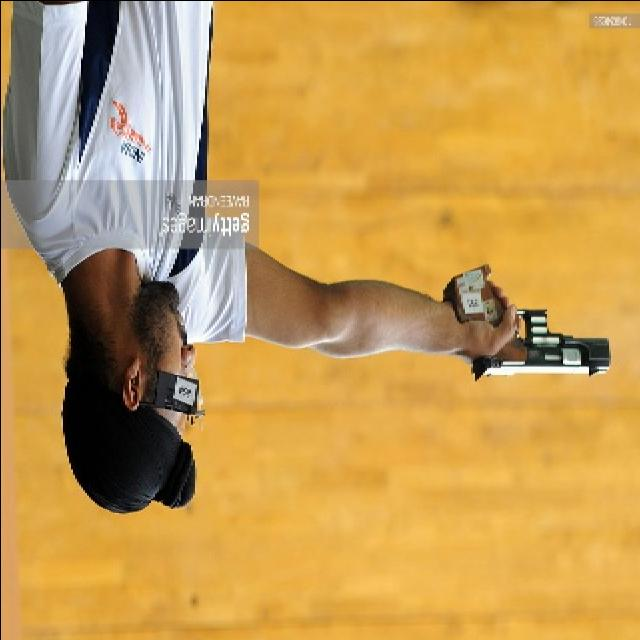handgun: (445, 266, 623, 387)
